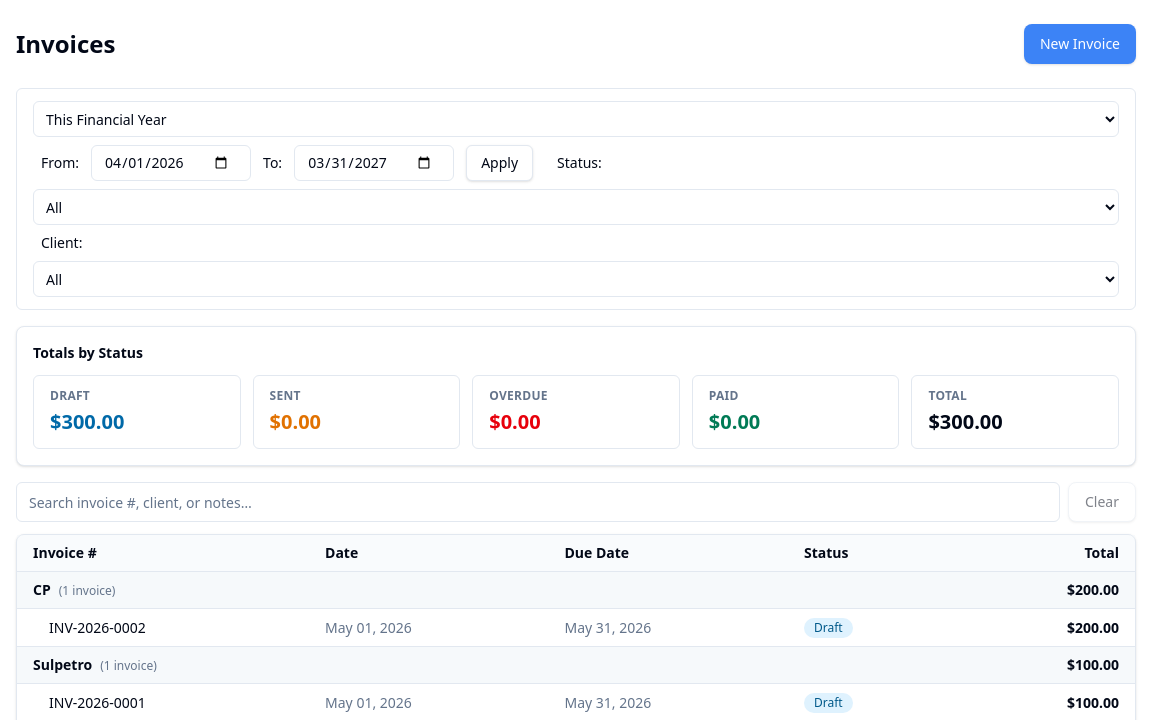
Test case: Invoices landing page › filters by search input across invoice # and client name
The image size is (1152, 720).
Type "Sulpetro" into the field named "Search invoices" at (538, 502), box top-left (16, 482), bottom-right (1060, 522)
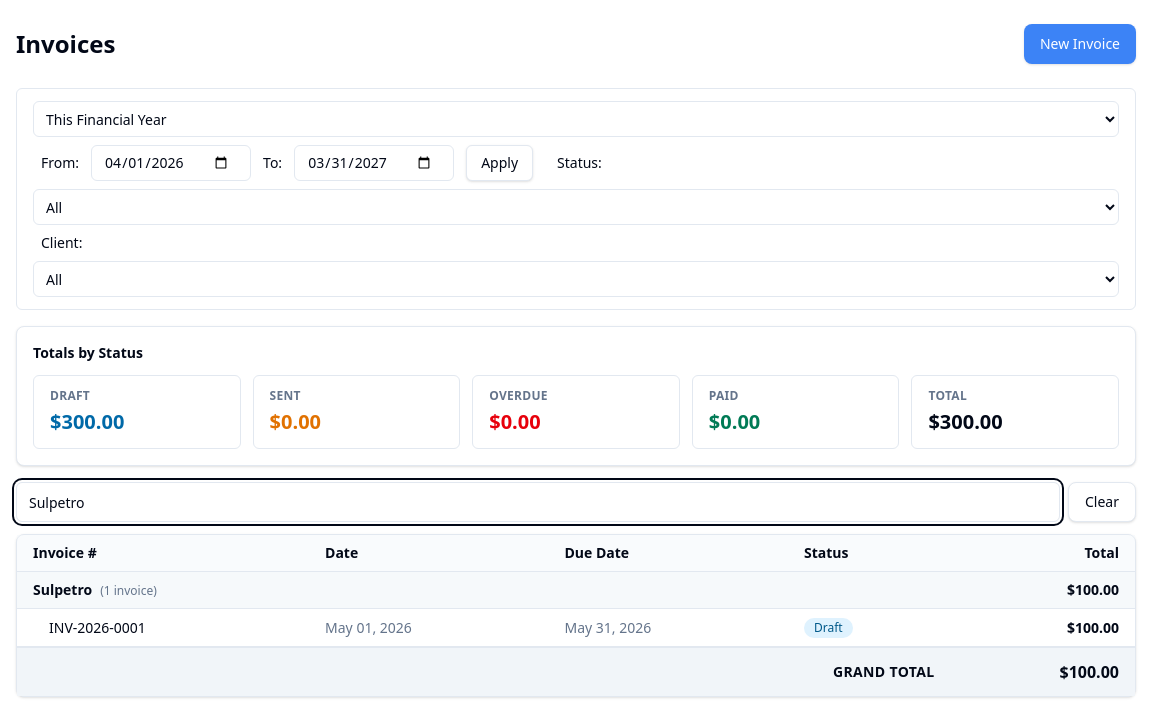
Expected: the text "INV-2026-0001" is shown, top-left (17, 608), bottom-right (309, 647)
Now the text "INV-2026-0002" is gone
